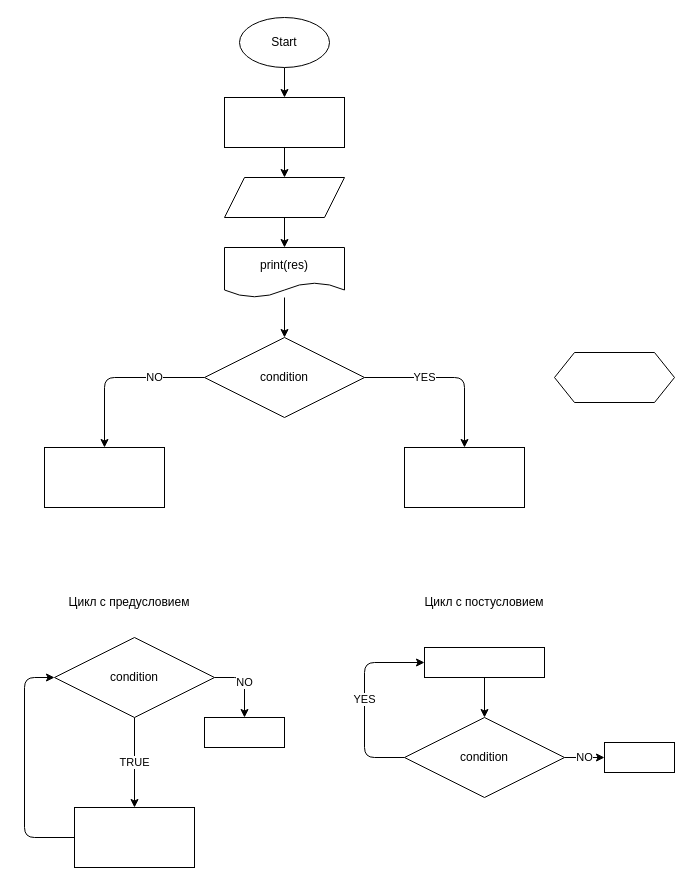
Some shapes in this 692 by 885 pixel diagram are drawn without their labels. The centre of each missing label's shape, as x and y in pixels:
count: (284,197)
count - 1,10,5: (614,377)
count=0 res=1*sqrt(2): (284,122)
